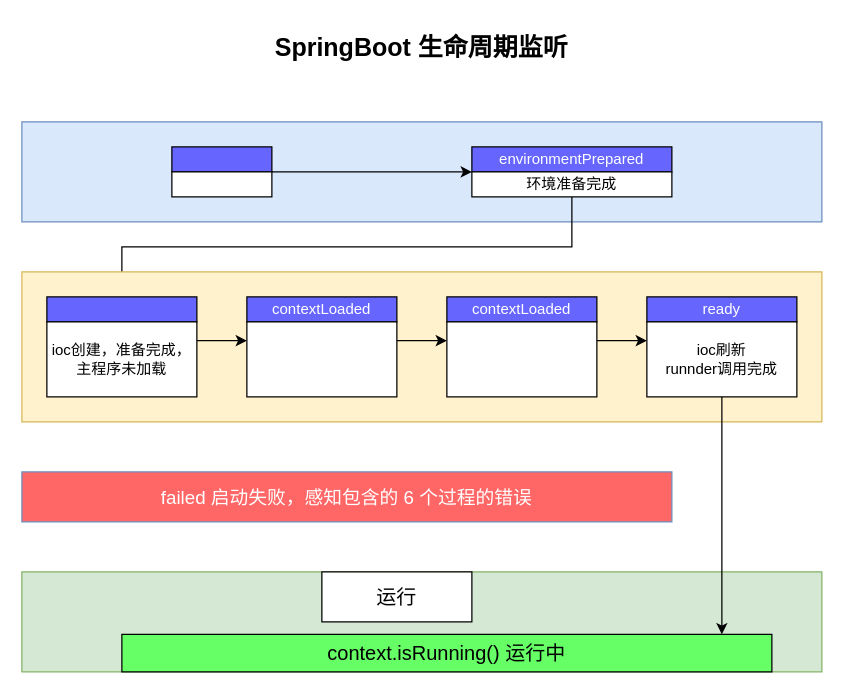
Some shapes in this 844 by 694 pixel diagram are drawn without their labels. Here are the shapes that lost their labels. From the top down, the centre of each, then its label:
At point (221, 159): "starting".
At point (221, 184): "启动".
At point (121, 309): "contextParepared".
At point (321, 359): "ico加载，尚未刷新".
At point (521, 359): "ioc刷新 runner 未调用".
